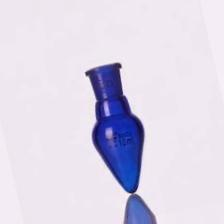Pear shaped flask: (73, 65, 157, 196)
